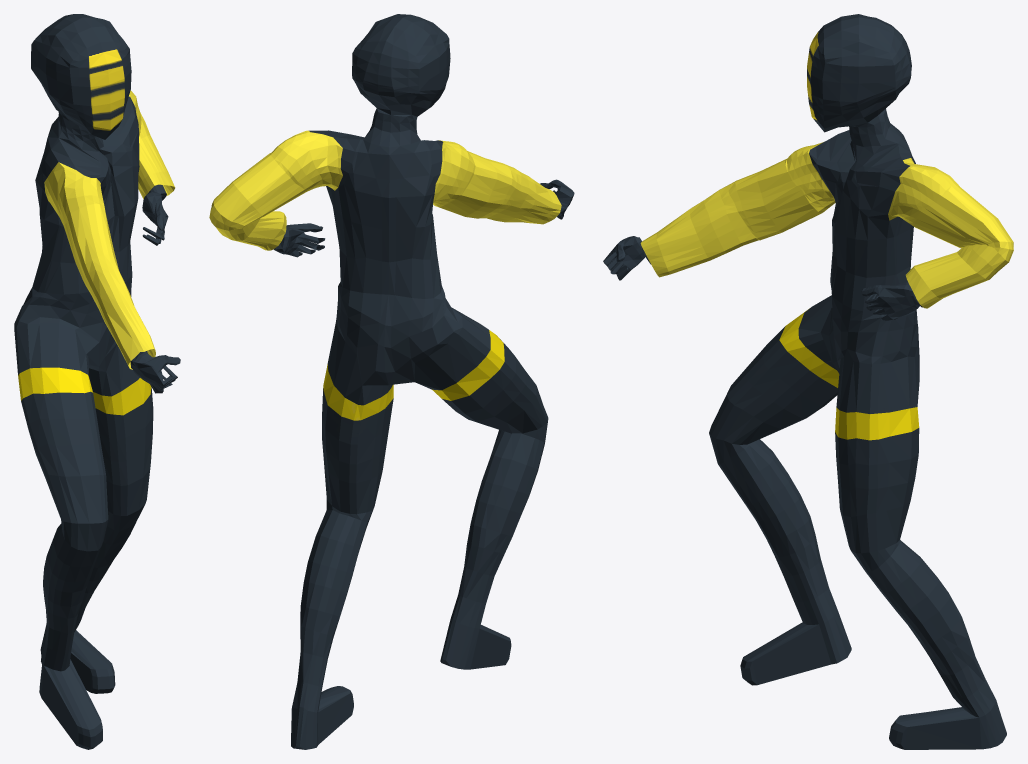
The model's file is Sentry_WF_000020.obj.
3 views of the same model, side by side, from view 1: azimuth 30°, elevation 25°; view 2: azimuth 150°, elevation 25°; view 3: azimuth 270°, elevation 25° (orthographic). The views are drawn at different scales.
Parts seen in each view (by area): view 1: Cube; view 2: Cube; view 3: Cube.
Part boxes in pixels (bbox=[...]): Cube: bbox=[14, 14, 180, 749]; Cube: bbox=[209, 14, 574, 749]; Cube: bbox=[603, 14, 1013, 749].
Size of the model in its own units: 1.19 by 3.77 by 1.98.
